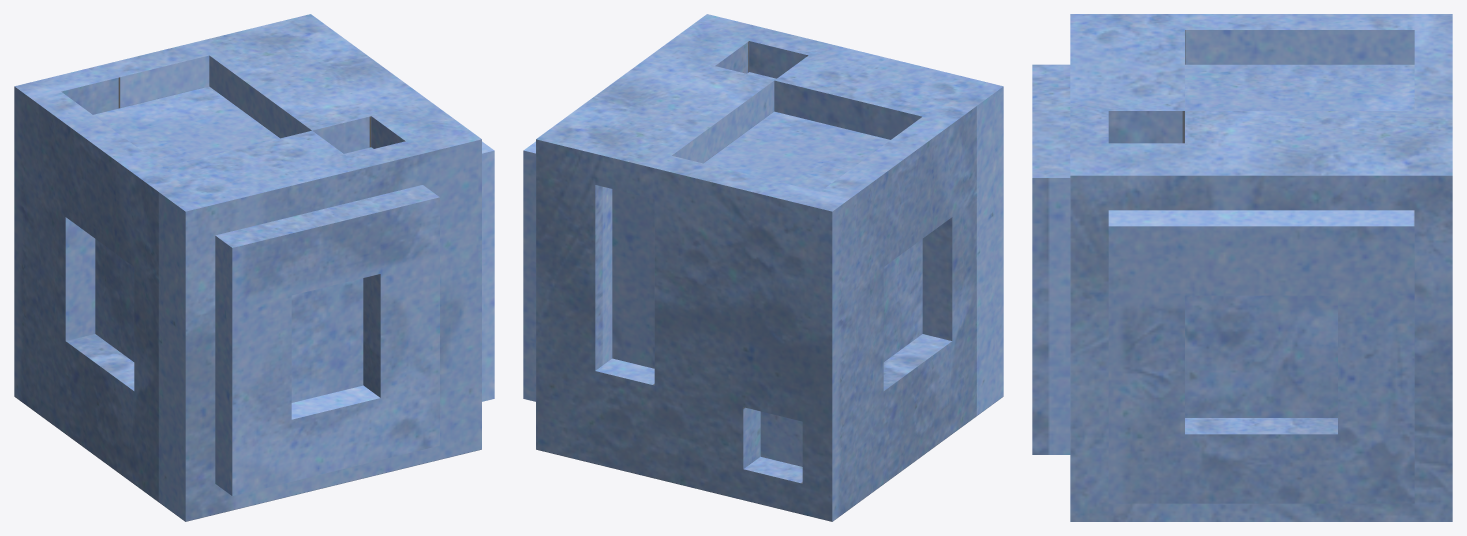
Rendered from phylosilicate.glb.
3 views of the same model, side by side, from view 1: azimuth 30°, elevation 25°; view 2: azimuth 150°, elevation 25°; view 3: azimuth 270°, elevation 25° (orthographic). The views are drawn at different scales.
Parts seen in each view (by area): view 1: phylosilicate; view 2: phylosilicate; view 3: phylosilicate.
Part boxes in pixels (x1,y1,x2,y2): phylosilicate: (14,14,494,521); phylosilicate: (523,14,1003,521); phylosilicate: (1032,14,1452,521).
Size of the model in its own units: 1.1 by 1 by 1.1.
1 material, 1 textured.
